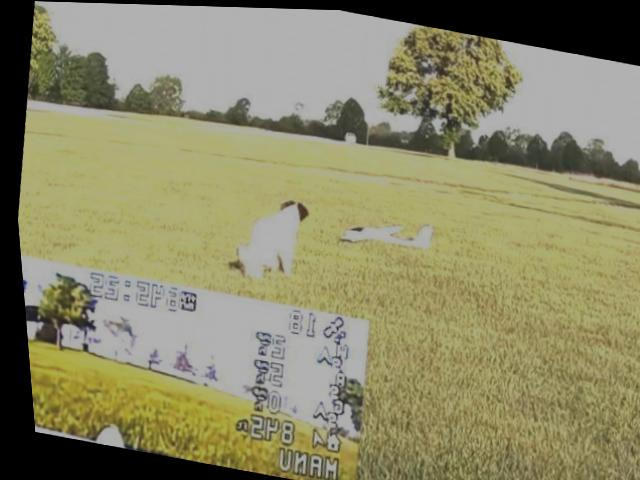iha: (337, 207, 431, 255)
